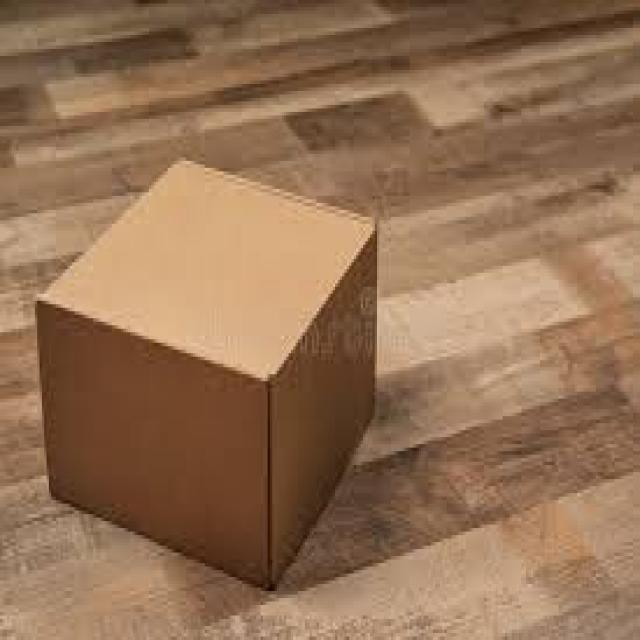box: (43, 118, 392, 602)
